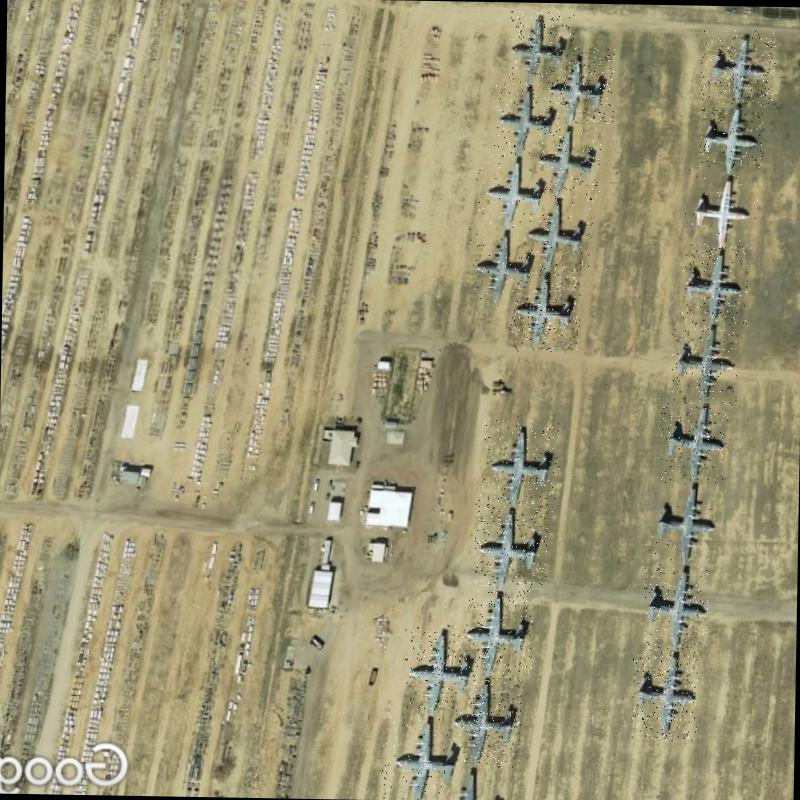A2: (481, 415, 560, 512), (474, 494, 548, 588), (382, 716, 460, 800), (452, 674, 522, 767), (403, 624, 476, 713), (508, 264, 581, 352), (631, 647, 698, 742), (644, 481, 718, 566), (684, 167, 760, 249), (466, 224, 535, 309), (700, 30, 776, 106), (466, 590, 532, 674), (643, 564, 708, 648), (682, 243, 748, 325), (671, 323, 737, 405), (549, 46, 614, 127), (474, 152, 545, 226), (660, 403, 728, 480), (493, 78, 558, 156), (508, 9, 574, 85), (696, 104, 764, 177), (540, 121, 602, 200), (528, 193, 593, 268)
